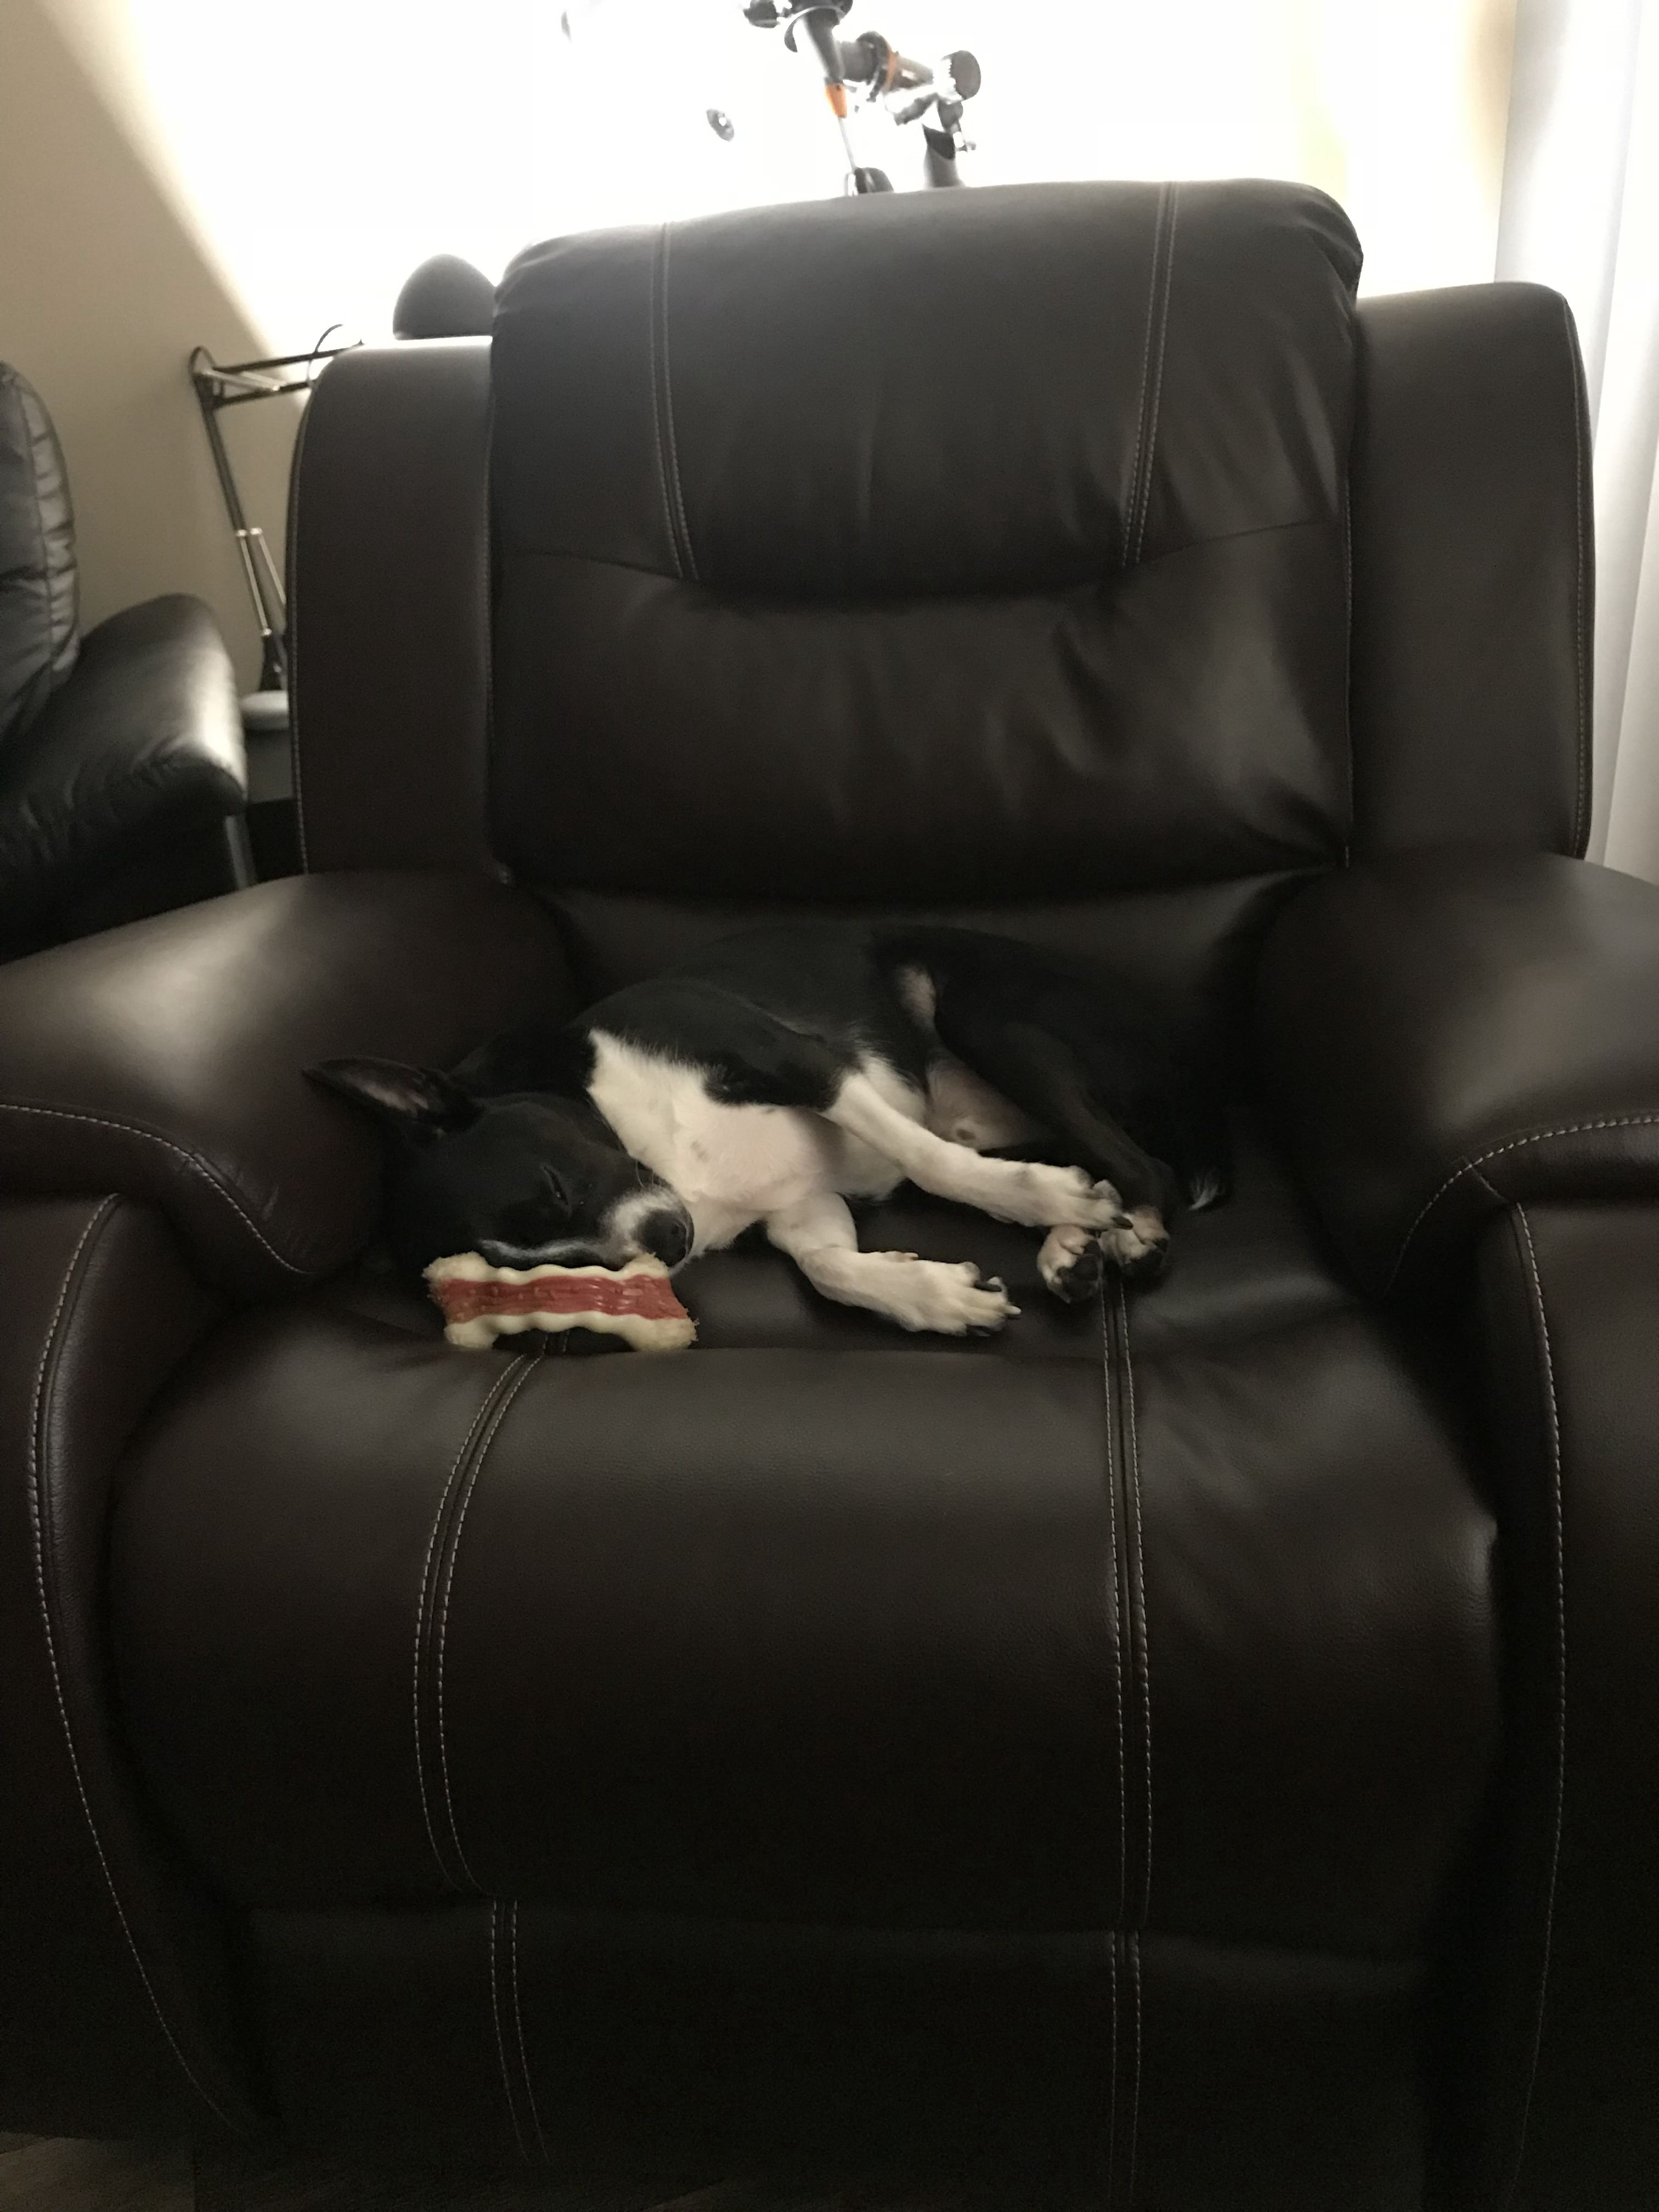Harley: (343, 906, 1265, 1397)
